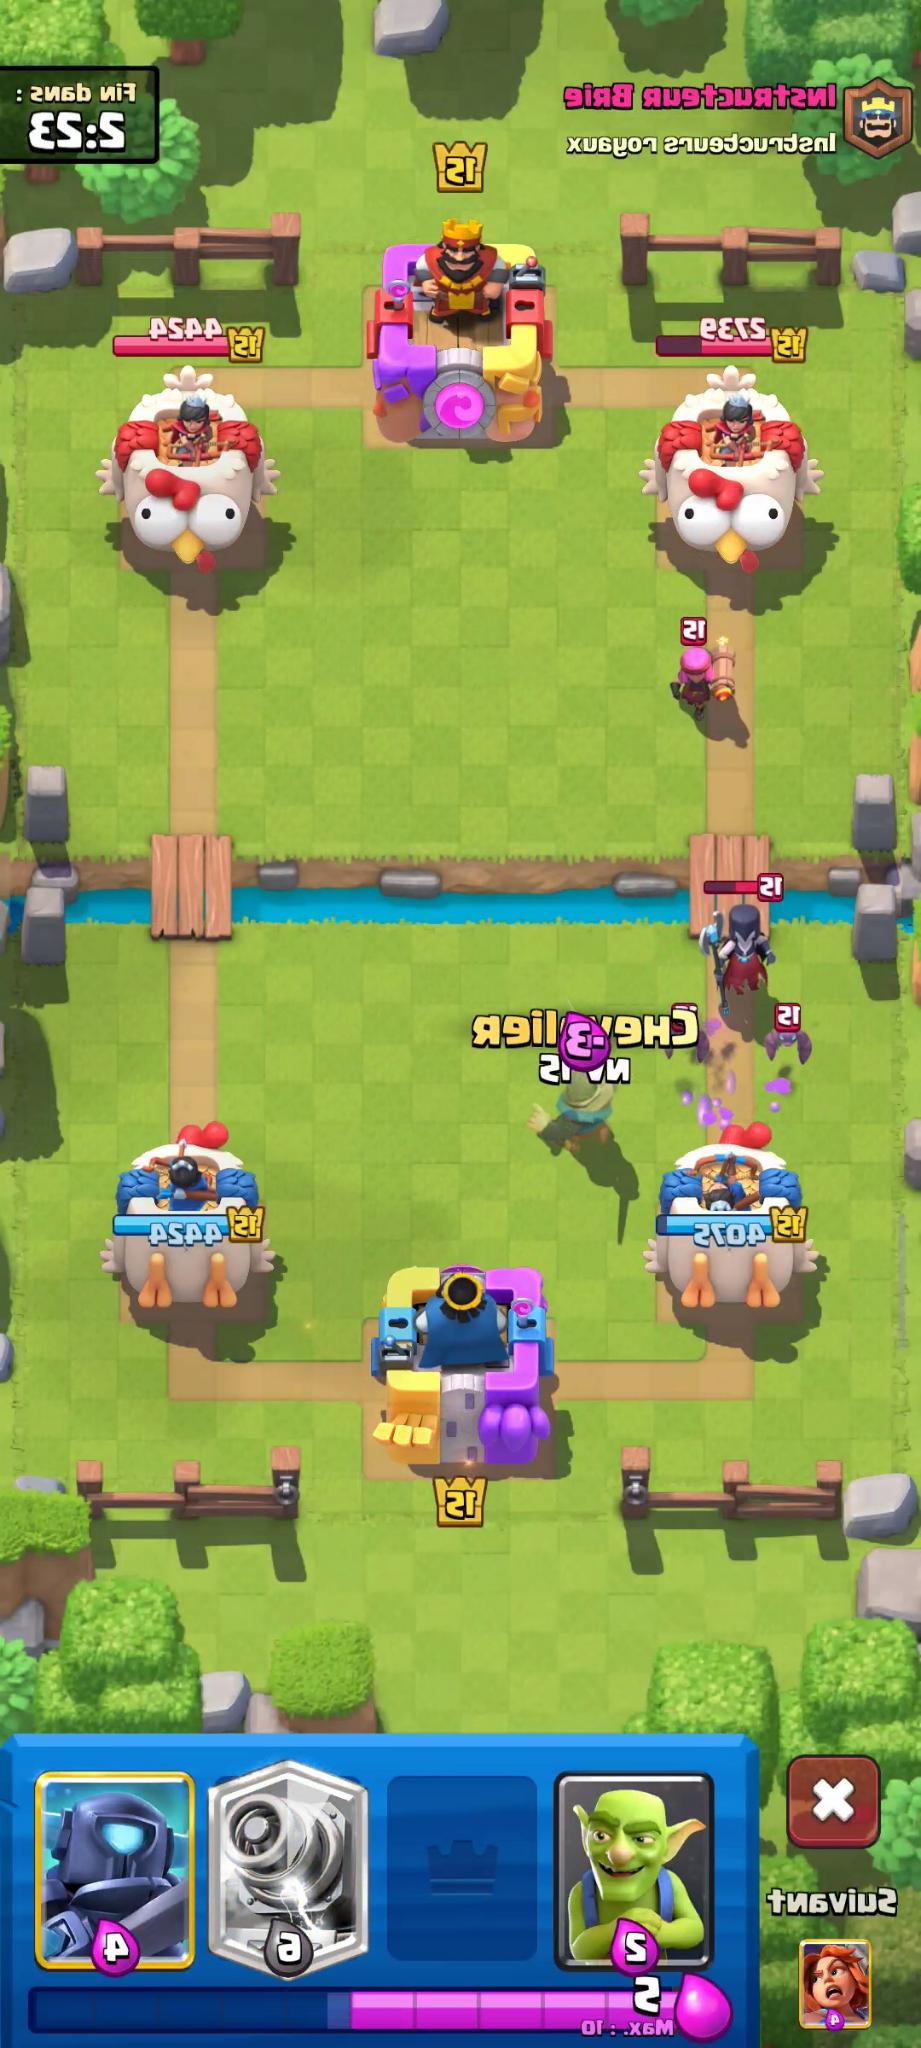bat: (759, 998, 816, 1079), (649, 999, 717, 1066)
chevalier: (521, 1048, 632, 1168)
